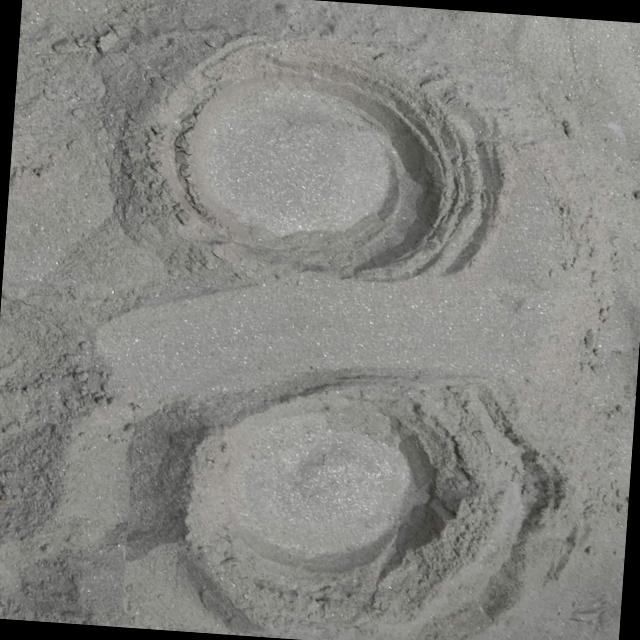C20: (130, 379, 556, 640), (117, 37, 494, 280)
